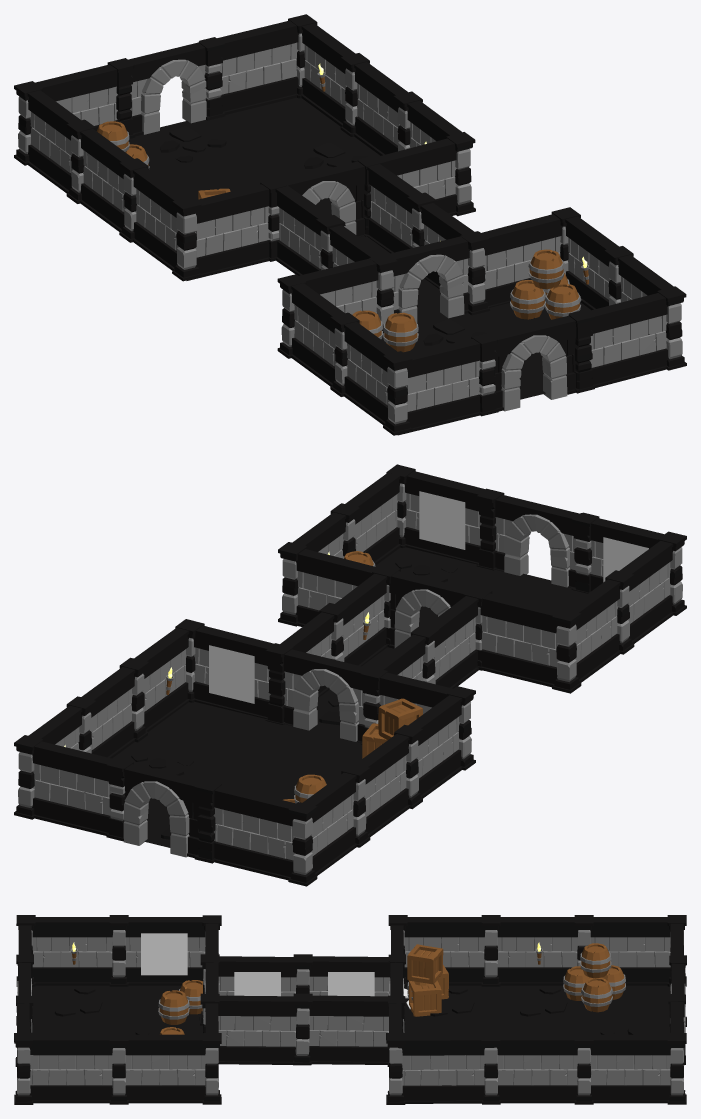
File: sceneTJSED.gltf
The picture shows the model from 3 angles, top to bottom: view 1: azimuth 30°, elevation 25°; view 2: azimuth 150°, elevation 25°; view 3: azimuth 270°, elevation 25°; orthographic projection. The views are drawn at different scales.
Visible parts, largest first — view 1: Cube003 (×18), Cube003_1 (×18), Plane021_1 (×3), Cube004 (×3), Cube006_1 (×2), Cube004_1 (×3), Cube006, Cube006_2 (×2), Plane007, Cylinder003_1 (×4), Cube010_2, Plane009 (+6 smaller); view 2: Cube003 (×18), Cube003_1 (×17), Cube004 (×3), Cube004_1 (×3), Cube006, Cube006_1 (×2), Plane010, Plane011, Plane021_1 (×3), Plane012, Plane009, p10 (+9 smaller); view 3: Cube003 (×18), Cube003_1 (×16), Plane022_1 (×2), Cylinder003_1 (×6), Plane022, Plane, p8, Cube004 (×3), Plane021_1 (×2), Plane005, Cube006_1 (×2), Crate008 (+10 smaller).
Boxes of the visible parts, x1,y1,x2,y2 form: Cube003 (×18): (14,14,686,435); Cube003_1 (×18): (18,33,682,424); Plane021_1 (×3): (128,118,505,352); Cube004 (×3): (107,42,595,411); Cube006_1 (×2): (187,178,498,435); Cube004_1 (×3): (130,59,567,411); Cube006: (198,20,299,120); Cube006_2 (×2): (195,206,495,411); Plane007: (216,97,345,153); Cylinder003_1 (×4): (384,249,579,352); Cube010_2: (392,254,469,323); Plane009: (173,153,294,193); Cube003 (×18): (14,464,686,886); Cube003_1 (×17): (18,483,682,874); Cube004 (×3): (124,488,579,863); Cube004_1 (×3): (123,514,577,857); Cube006: (32,741,133,841); Cube006_1 (×2): (360,512,664,744); Plane010: (226,723,362,776); Plane011: (144,702,273,758); Plane021_1 (×3): (112,689,340,847); Plane012: (461,568,575,608); Plane009: (197,758,300,799); p10: (419,491,465,549); Cube003 (×18): (14,915,686,1104); Cube003_1 (×16): (17,930,683,1095); Plane022_1 (×2): (404,985,583,1021); Cylinder003_1 (×6): (159,943,624,1024); Plane022: (32,985,118,1021); Plane: (584,985,670,1021); p8: (141,933,187,975); Cube004 (×3): (15,955,686,1066); Plane021_1 (×2): (119,1022,670,1034); Plane005: (119,985,201,1021); Cube006_1 (×2): (16,925,405,1025); Crate008: (407,944,443,984).
Bounding box in the file's own units: 12.83 × 3.16 × 28.94.
